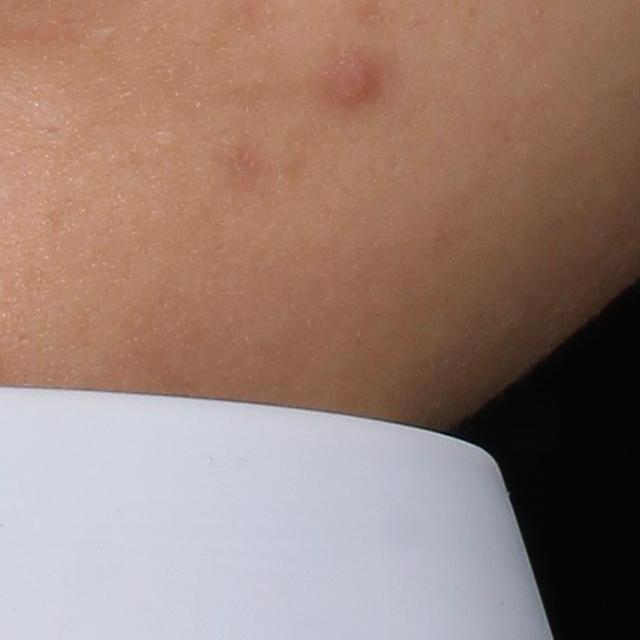papule: (330, 58, 388, 107)
